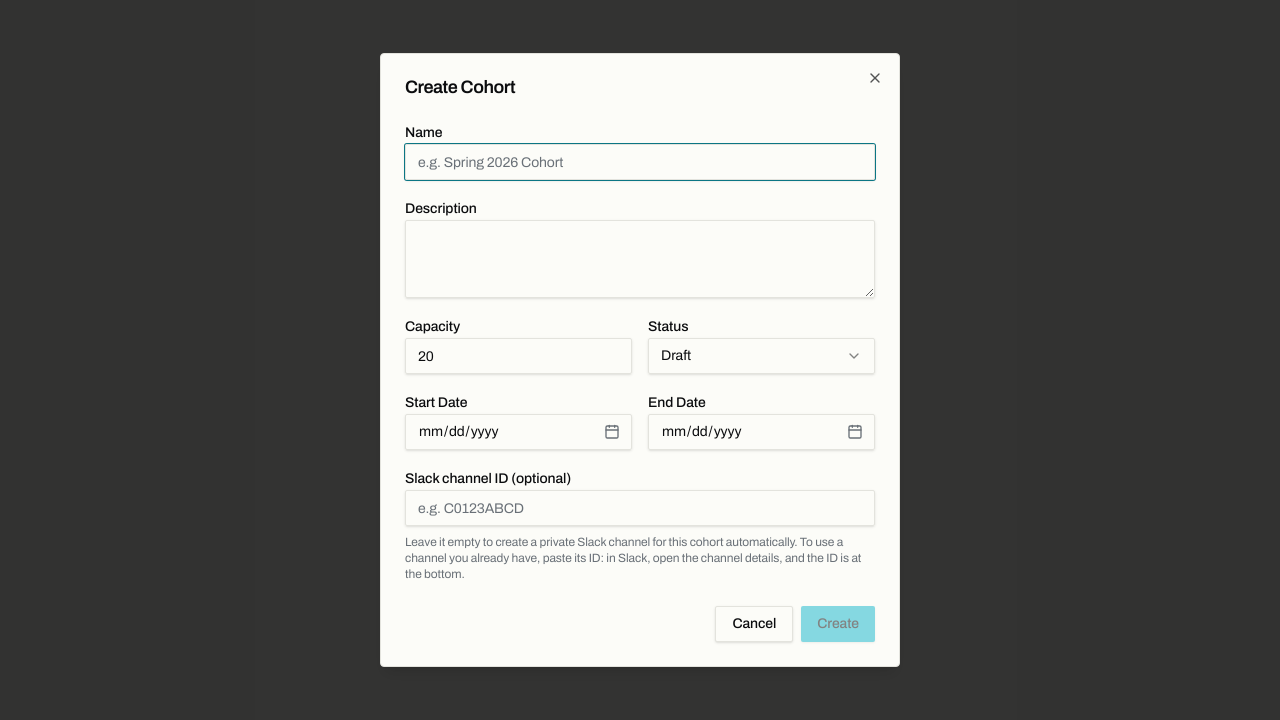
cohort FormDialog › shows an error and does not save an empty capacity
The width and height of the screenshot is (1280, 720).
Type "Summer" into the field with placeholder "e.g. Spring 2026 Cohort". click: (640, 162)
box: [405, 144, 875, 180]
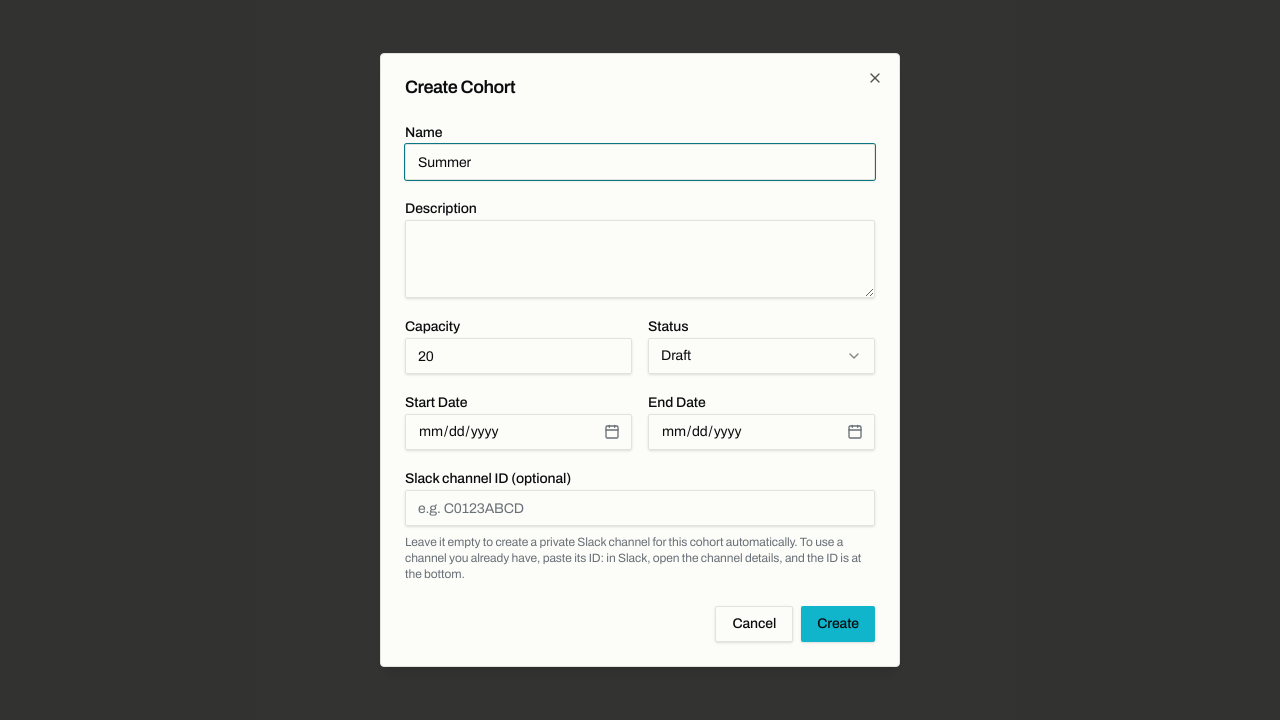
Clear the number field labelled "Capacity". click: (518, 356)
box: [405, 338, 632, 374]
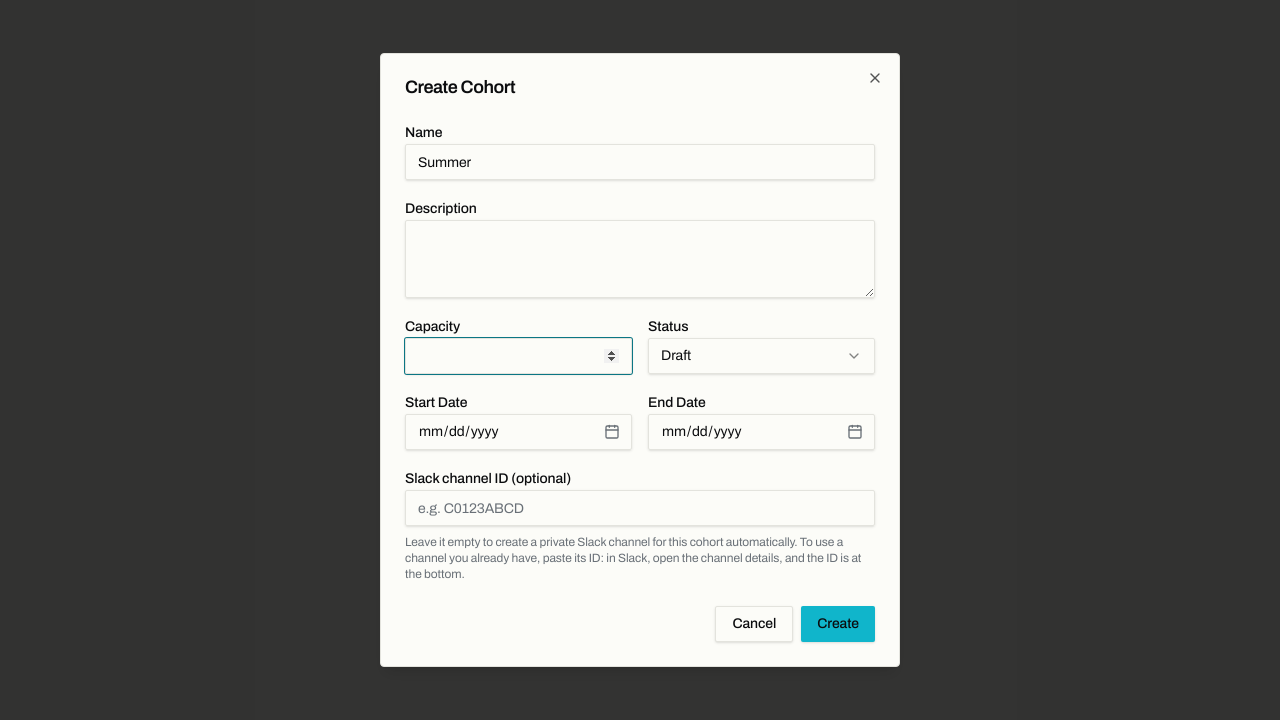
Click the button "Create". click: (838, 624)
box: [801, 606, 875, 642]
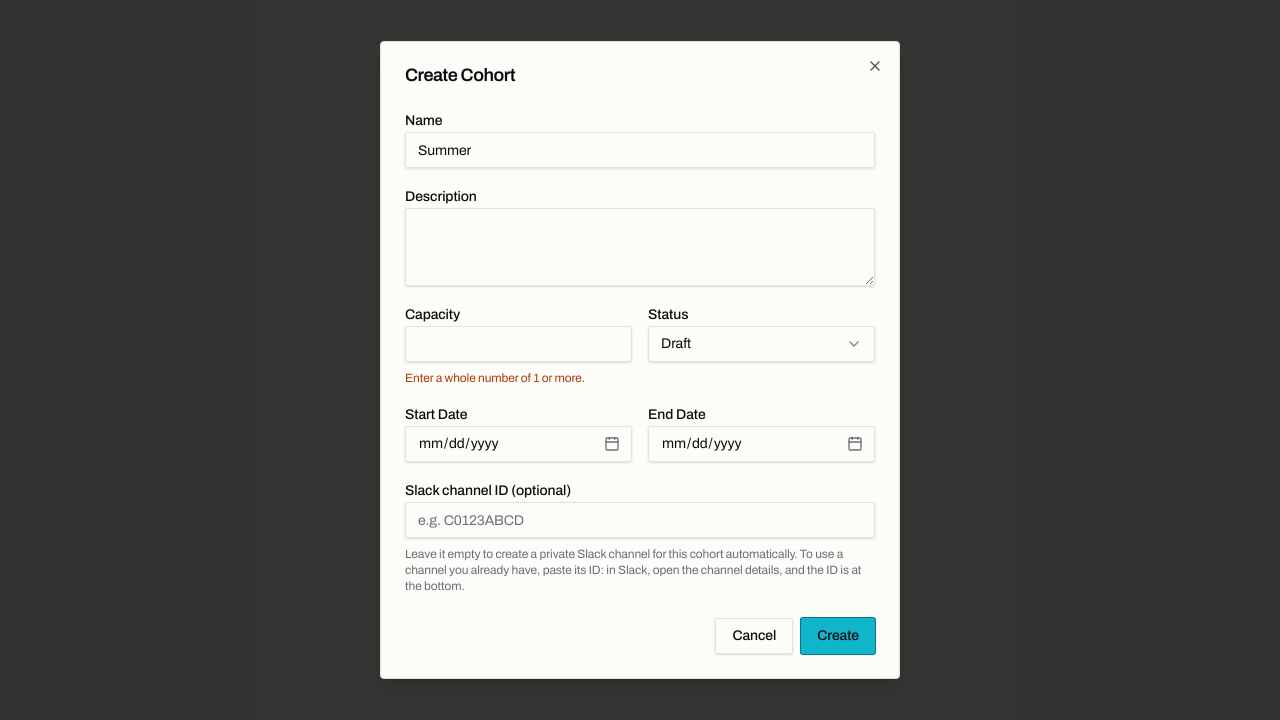
Expected: the text "Enter a whole number of 1 or more." is shown, [405, 371, 585, 385]
